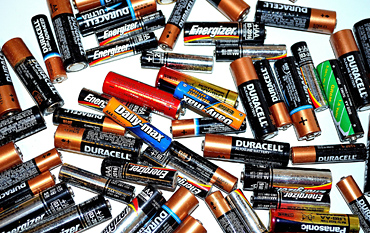Battery: (1, 35, 65, 117), (100, 69, 188, 122), (316, 57, 366, 144), (274, 54, 323, 142), (102, 95, 174, 154), (52, 122, 145, 166), (172, 78, 246, 132), (199, 131, 291, 168), (83, 32, 162, 70), (29, 11, 68, 85), (265, 207, 363, 233), (289, 142, 368, 166)
